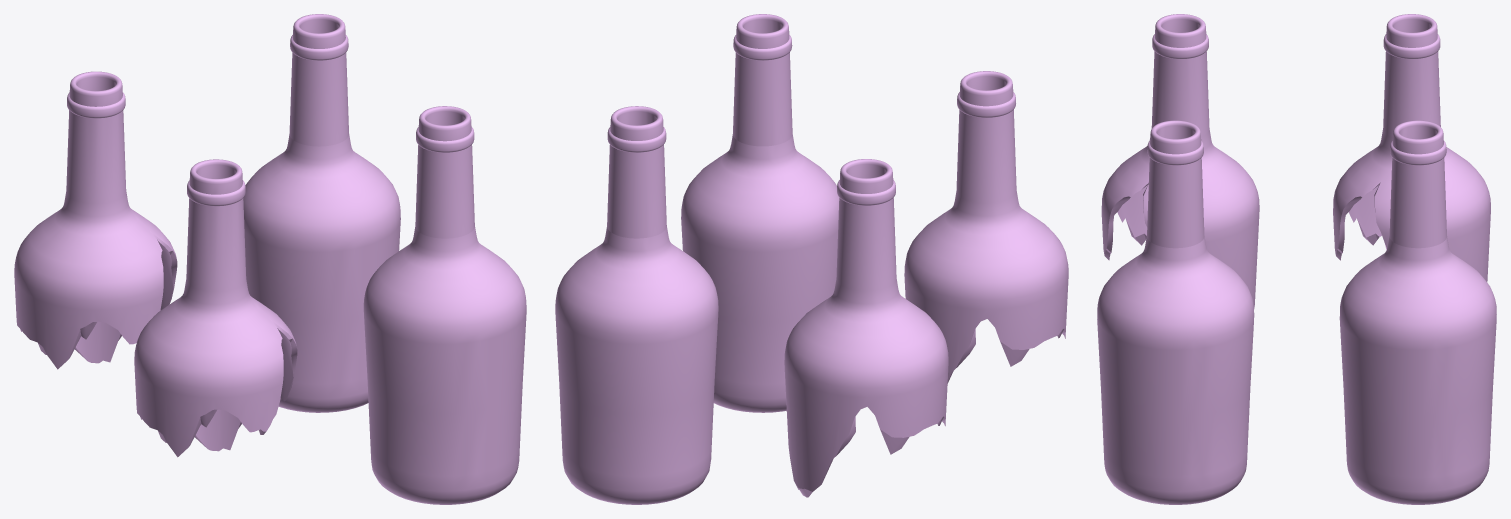
3 renders of one model, left to right at view 1: azimuth 30°, elevation 25°; view 2: azimuth 150°, elevation 25°; view 3: azimuth 270°, elevation 25°, orthographic. The views are drawn at different scales.
Visible parts, largest first — view 1: Red, Blu, Red_B, Blu_B; view 2: Blu, Red, Blu_B, Red_B; view 3: Red, Blu, Red_B, Blu_B.
Boxes of the visible parts, left/top/right/bottom form: Red: left=363, top=106, right=526, bottom=504; Blu: left=243, top=14, right=400, bottom=412; Red_B: left=134, top=159, right=297, bottom=457; Blu_B: left=14, top=71, right=177, bottom=369; Blu: left=555, top=106, right=718, bottom=504; Red: left=681, top=14, right=839, bottom=412; Blu_B: left=784, top=159, right=948, bottom=497; Red_B: left=904, top=71, right=1068, bottom=383; Red: left=1097, top=120, right=1254, bottom=504; Blu: left=1339, top=120, right=1496, bottom=504; Red_B: left=1101, top=14, right=1259, bottom=308; Blu_B: left=1333, top=14, right=1490, bottom=281.
Size of the model in its own units: 1810 by 1710 by 1766.
